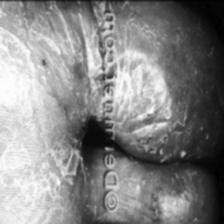Non-Cancerous Skin Condition: (0, 0, 90, 200), (121, 34, 191, 146)
